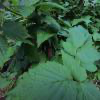Raspberry leaf: (59, 48, 88, 82), (75, 44, 99, 64), (69, 26, 84, 49), (61, 39, 76, 56)
